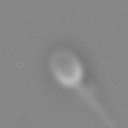normal: (74, 84, 124, 128)
